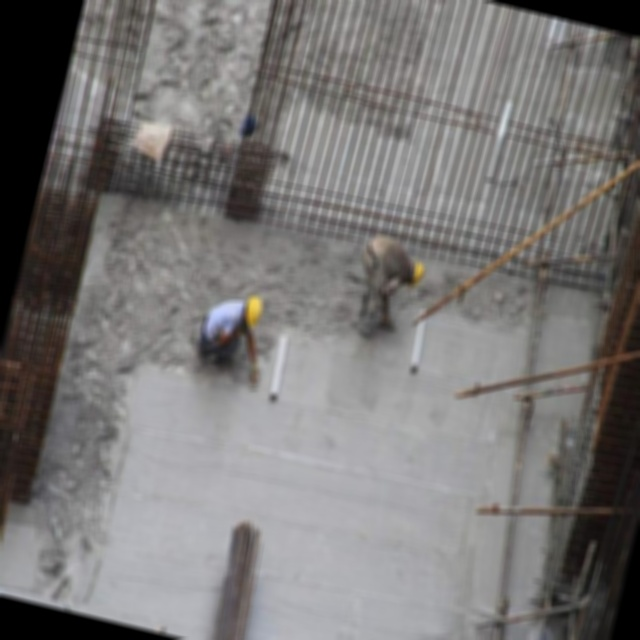Con_Casco: (238, 293, 265, 337), (404, 256, 429, 296)
